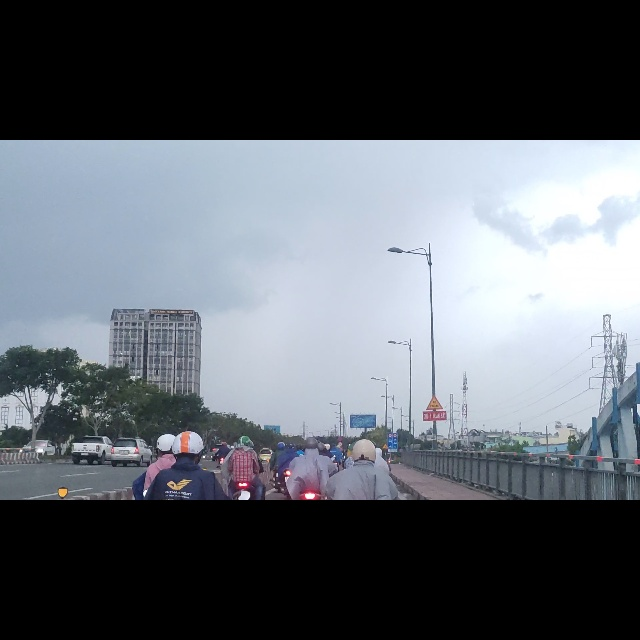bien_nguy_hiem: (425, 452, 444, 481), (382, 539, 389, 550)
